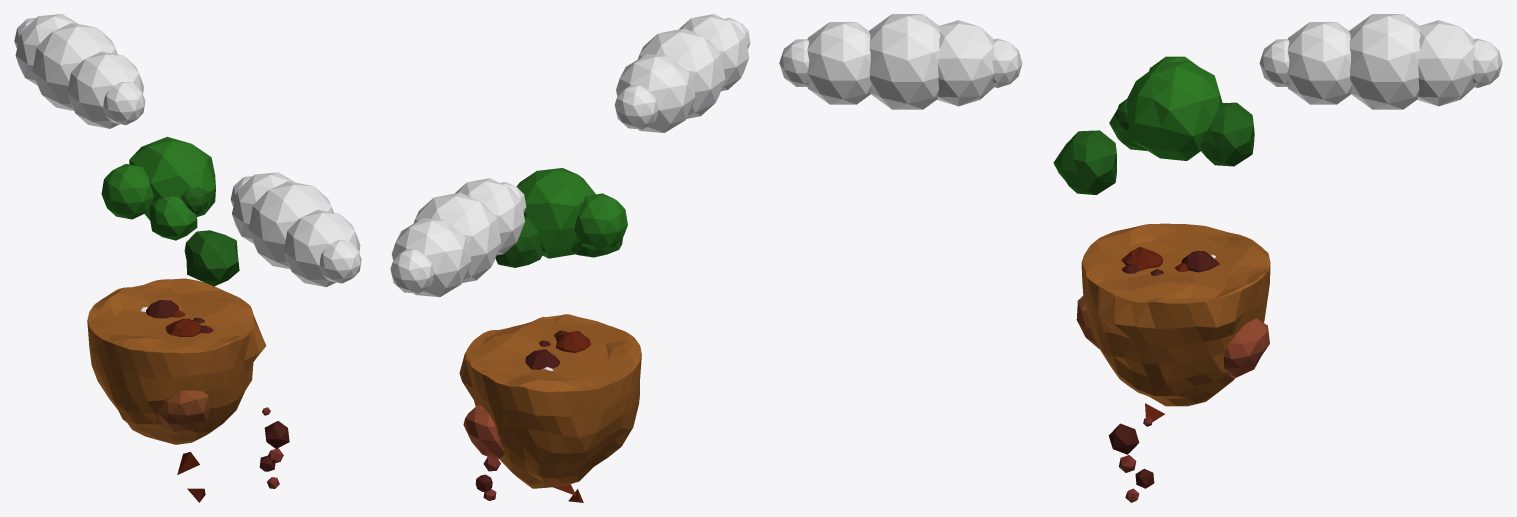
Rendered from island.glb.
3 views of the same model, side by side, from view 1: azimuth 30°, elevation 25°; view 2: azimuth 150°, elevation 25°; view 3: azimuth 270°, elevation 25° (orthographic). The views are drawn at different scales.
Parts seen in each view (by area): view 1: Icosphere, Icosphere.024, Icosphere.020, Icosphere.013, Icosphere.016, Icosphere.018, Icosphere.008, Icosphere.019, Icosphere.017, Icosphere.004, Icosphere.009, Icosphere.001; view 2: Icosphere, Icosphere.020, Icosphere.024, Icosphere.013, Icosphere.018, Icosphere.007, Icosphere.015, Icosphere.004, Icosphere.001; view 3: Icosphere, Icosphere.024, Icosphere.020, Icosphere.013, Icosphere.016, Icosphere.015, Icosphere.007.
Boxes of the visible parts, left/top/right/bottom form: Icosphere: left=87, top=278, right=266, bottom=444; Icosphere.024: left=14, top=14, right=145, bottom=128; Icosphere.020: left=230, top=172, right=361, bottom=287; Icosphere.013: left=129, top=136, right=215, bottom=219; Icosphere.016: left=184, top=230, right=239, bottom=286; Icosphere.018: left=101, top=164, right=153, bottom=219; Icosphere.008: left=158, top=390, right=211, bottom=434; Icosphere.019: left=149, top=196, right=197, bottom=240; Icosphere.017: left=180, top=187, right=208, bottom=214; Icosphere.004: left=166, top=318, right=201, bottom=336; Icosphere.009: left=264, top=421, right=289, bottom=448; Icosphere.001: left=146, top=300, right=178, bottom=318; Icosphere: left=459, top=314, right=641, bottom=488; Icosphere.020: left=614, top=14, right=750, bottom=132; Icosphere.024: left=390, top=178, right=526, bottom=297; Icosphere.013: left=516, top=168, right=595, bottom=258; Icosphere.018: left=574, top=193, right=627, bottom=250; Icosphere.007: left=463, top=404, right=504, bottom=460; Icosphere.015: left=495, top=216, right=542, bottom=267; Icosphere.004: left=555, top=330, right=590, bottom=352; Icosphere.001: left=525, top=349, right=560, bottom=369; Icosphere: left=1081, top=223, right=1270, bottom=406; Icosphere.024: left=1259, top=14, right=1502, bottom=109; Icosphere.020: left=779, top=14, right=1022, bottom=109; Icosphere.013: left=1126, top=61, right=1222, bottom=160; Icosphere.016: left=1053, top=130, right=1116, bottom=194; Icosphere.015: left=1200, top=102, right=1254, bottom=166; Icosphere.007: left=1223, top=318, right=1269, bottom=378.
Size of the model in its own units: 6.82 by 15.55 by 23.07.
